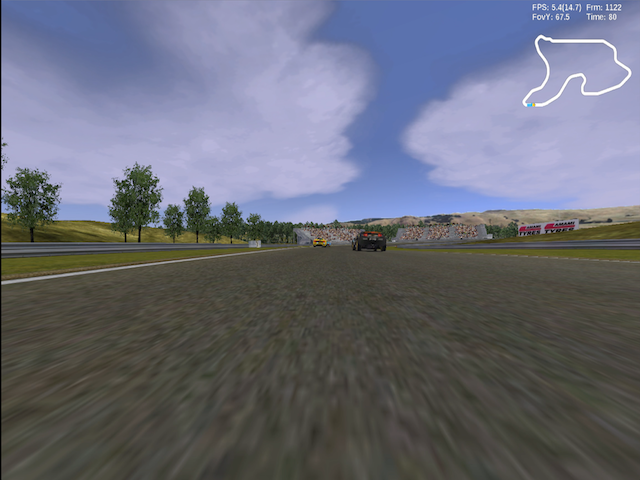Cavallo360: (312, 238, 327, 248)
Spirit300: (350, 231, 387, 252)
